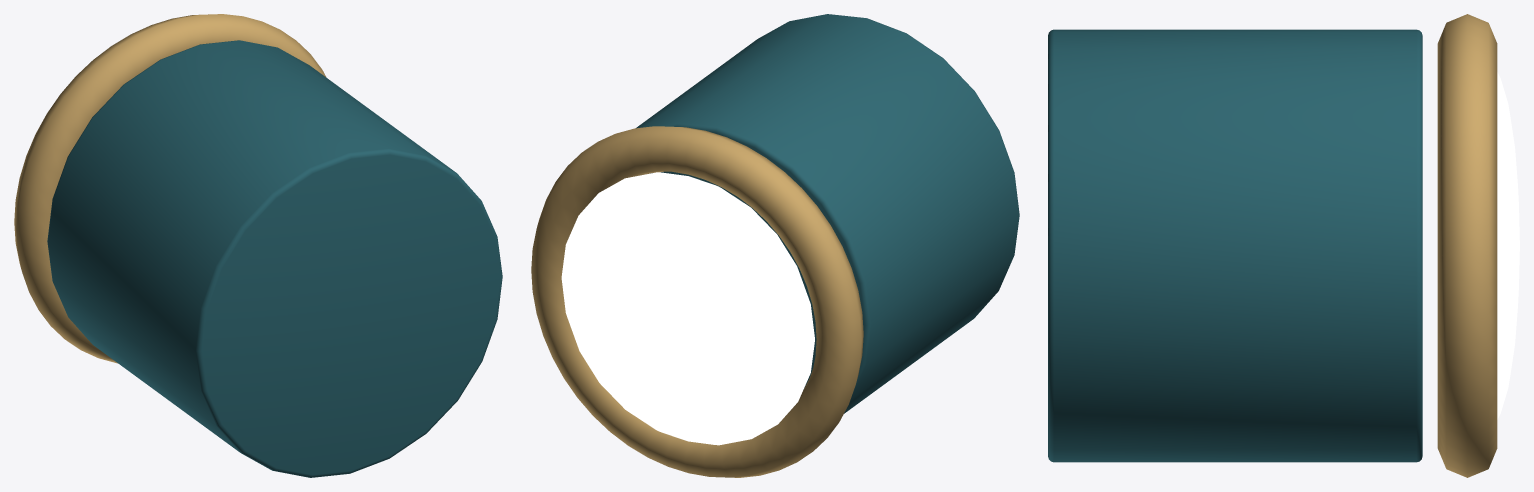
The model's file is lamp.glb.
3 views of the same model, side by side, from view 1: azimuth 30°, elevation 25°; view 2: azimuth 150°, elevation 25°; view 3: azimuth 270°, elevation 25° (orthographic). The views are drawn at different scales.
Visible parts, largest first — view 1: Inspection lamp housing, Lamp guard; view 2: Inspection lamp housing, Warm diffuser, Lamp guard; view 3: Inspection lamp housing, Lamp guard, Warm diffuser.
Boxes of the visible parts, x1,y1,x2,y2 form: Inspection lamp housing: (47,40,502,477); Lamp guard: (14,14,326,363); Inspection lamp housing: (636,14,1019,413); Warm diffuser: (561,172,814,445); Lamp guard: (531,126,863,477); Inspection lamp housing: (1048,29,1422,462); Lamp guard: (1437,14,1497,477); Warm diffuser: (1497,72,1519,419).
Size of the model in its own units: 0.062 by 0.062 by 0.063.
